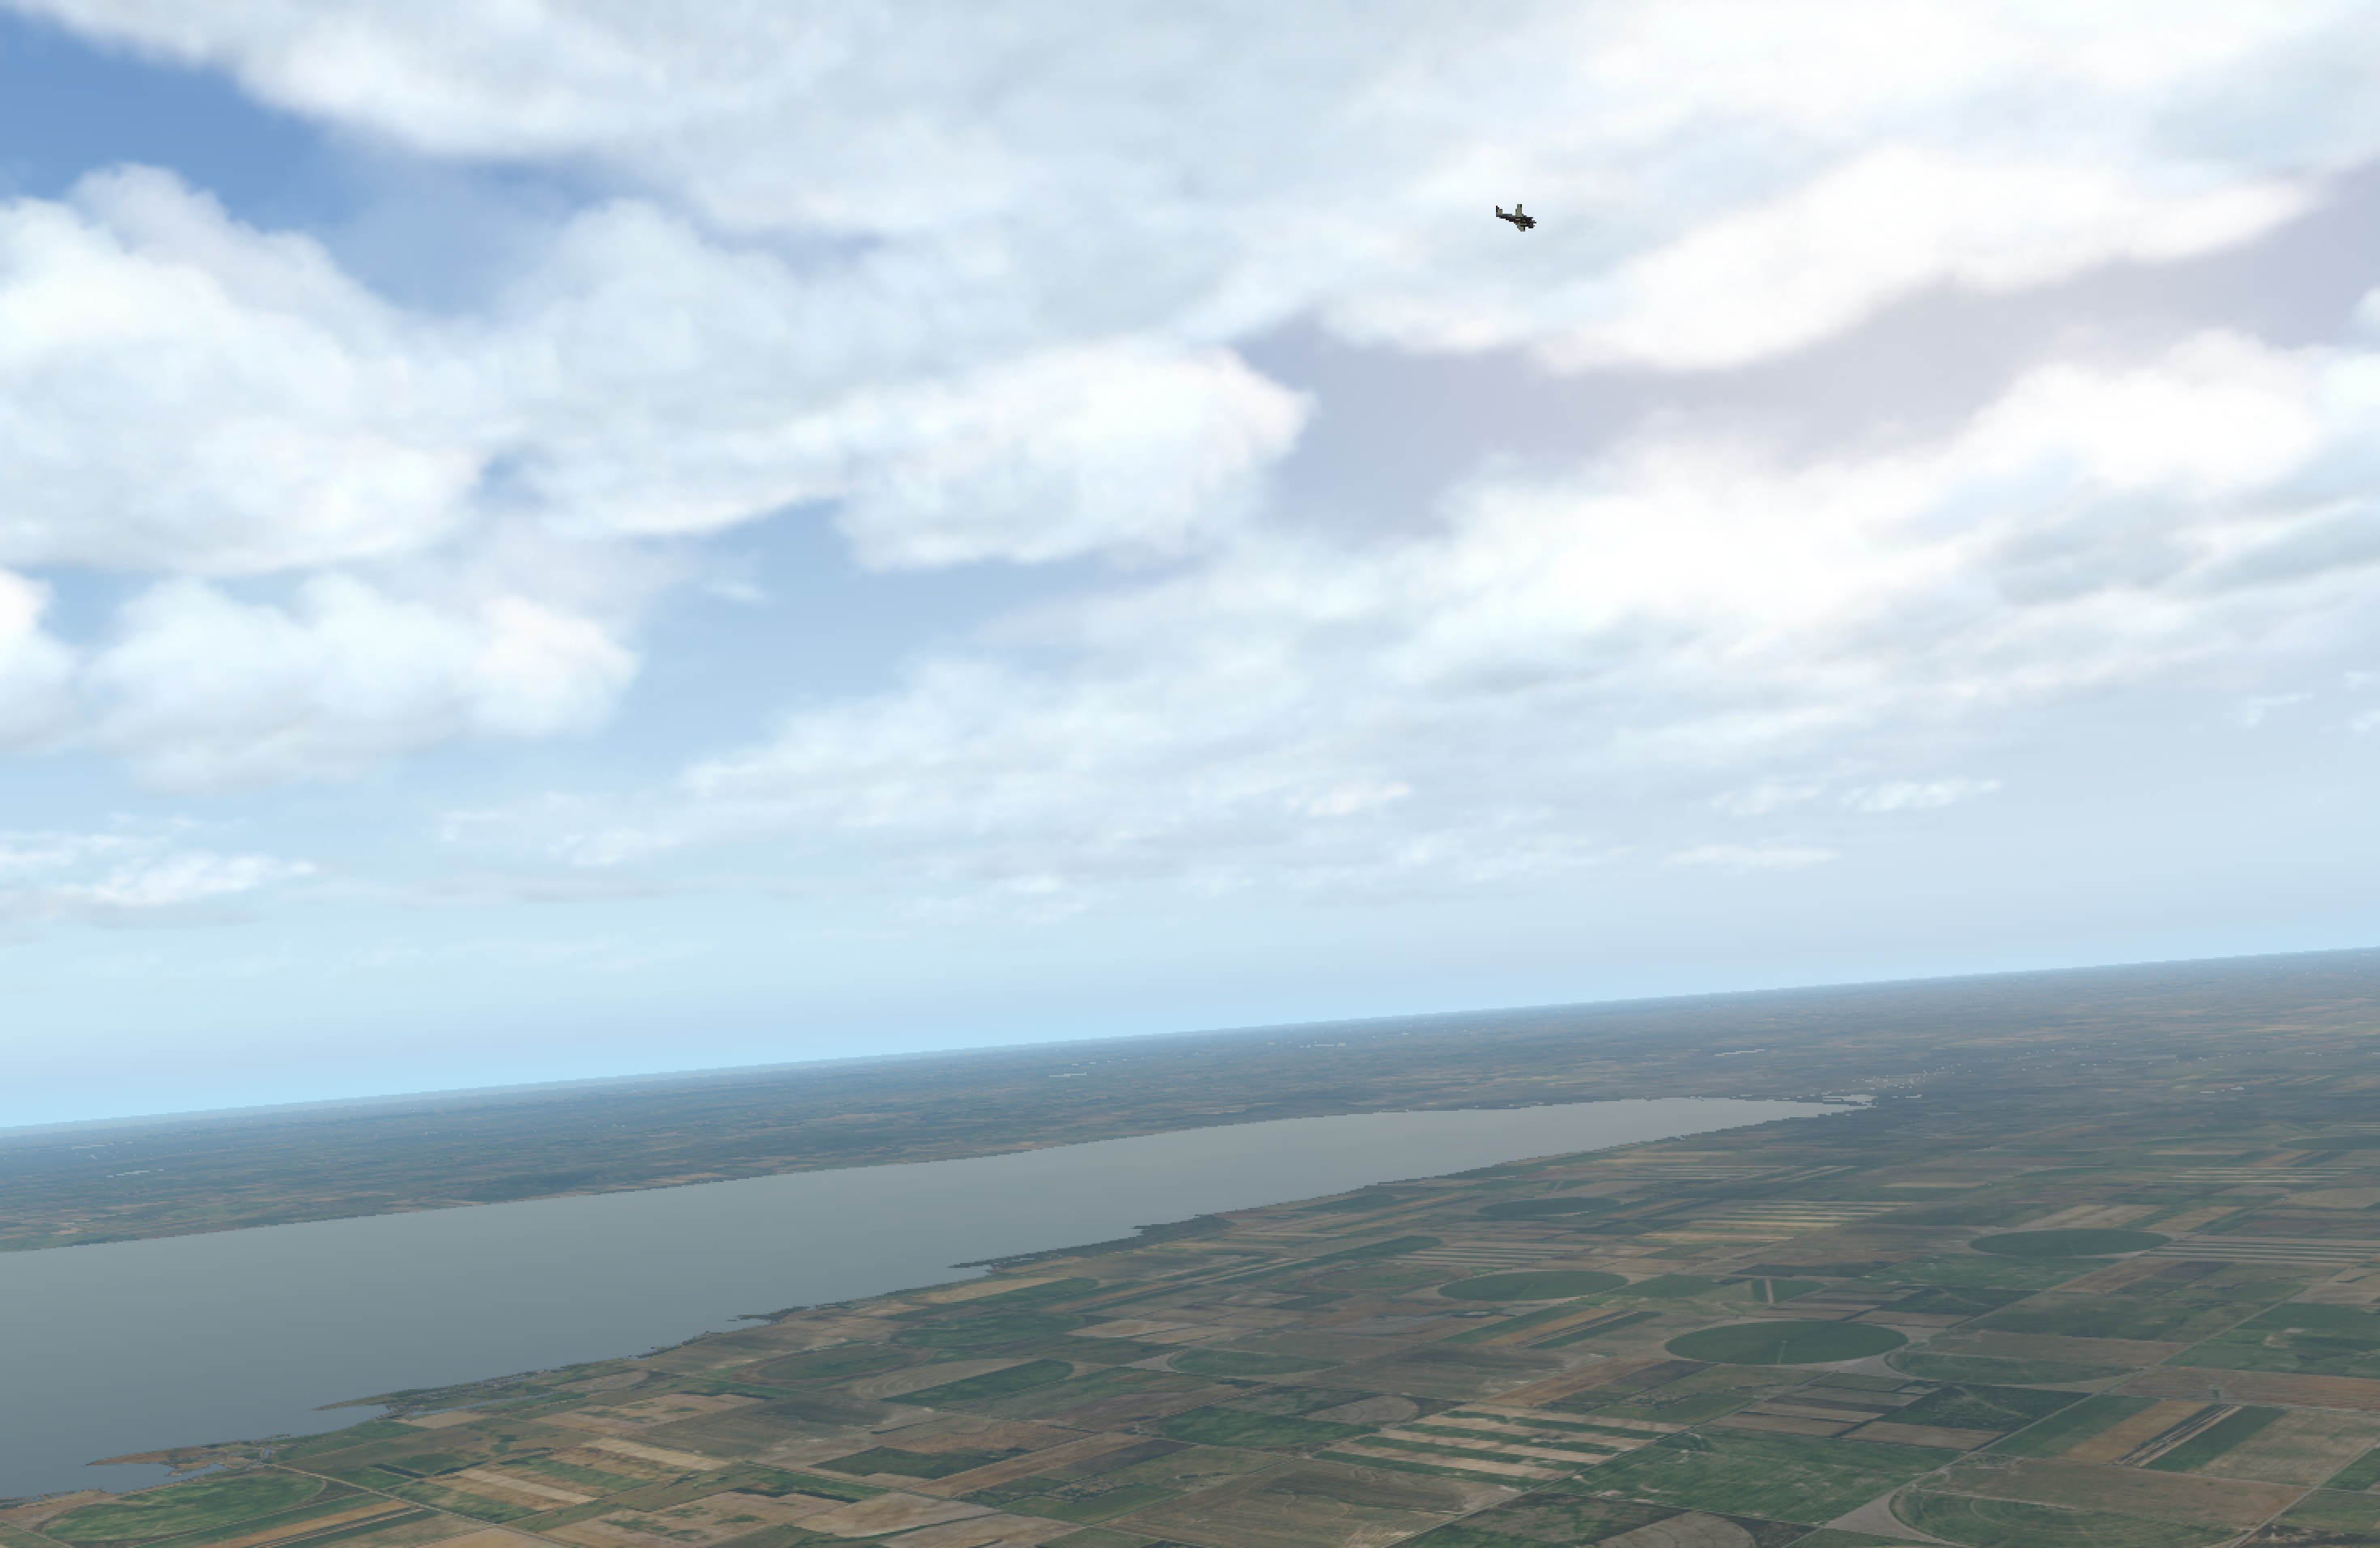aircraft: (1492, 210, 1553, 234)
